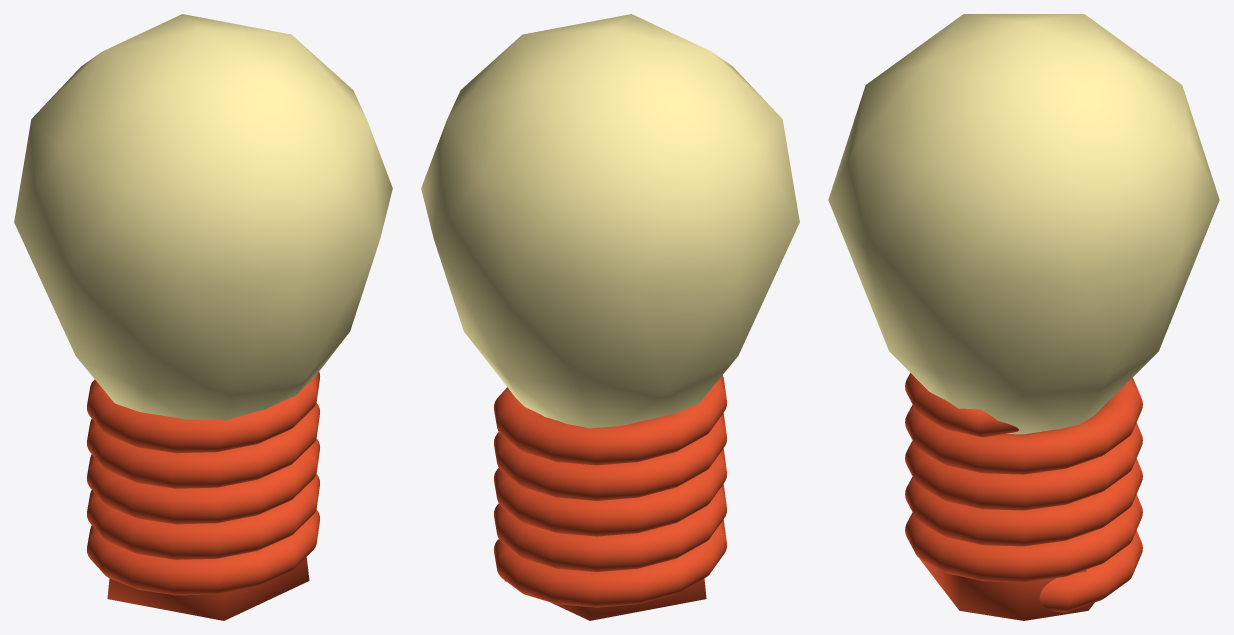
File: Lightbulb.fbx
3 renders of one model, left to right at view 1: azimuth 30°, elevation 25°; view 2: azimuth 150°, elevation 25°; view 3: azimuth 270°, elevation 25°, orthographic.
Parts seen in each view (by area): view 1: Bulb; view 2: Bulb; view 3: Bulb.
Boxes of the visible parts, x1,y1,x2,y2 form: Bulb: (14, 14, 392, 620); Bulb: (421, 14, 799, 620); Bulb: (828, 14, 1219, 620).
Bounding box in the file's own units: 626 × 1071 × 658.
